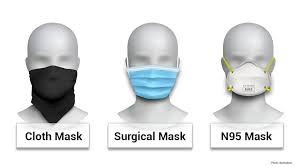with-mask: (25, 23, 82, 123), (218, 18, 280, 103), (120, 23, 182, 105)
